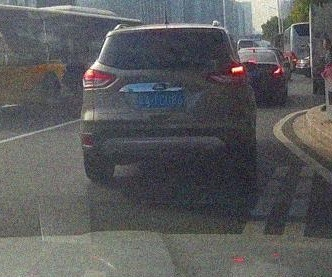L_light: (82, 68, 116, 88)
R_light: (209, 64, 248, 84)
T_light: (156, 29, 176, 34)
day-right: (79, 23, 257, 180)
